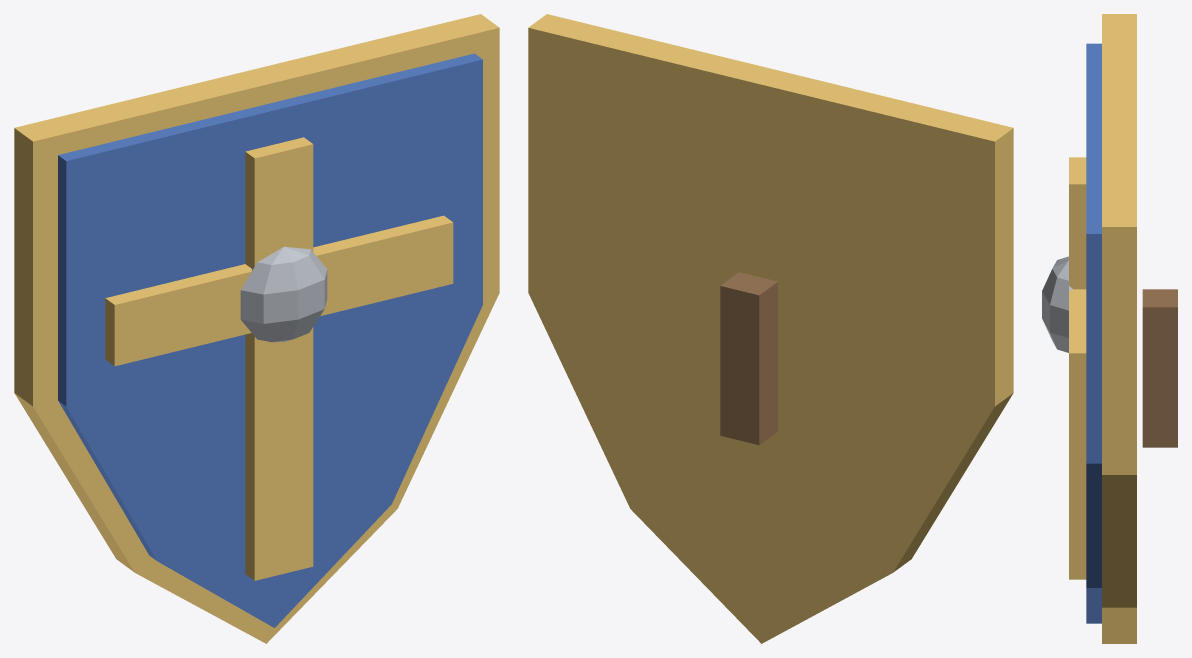
The model's file is Shield.fbx.
The picture shows the model from 3 angles, left to right: view 1: azimuth 30°, elevation 25°; view 2: azimuth 150°, elevation 25°; view 3: azimuth 270°, elevation 25°; orthographic projection. The views are drawn at different scales.
Visible parts, largest first — view 1: W_Shield; view 2: W_Shield; view 3: W_Shield.
Boxes of the visible parts, box(x1,y1,x2,y2) form: W_Shield: box(14, 14, 499, 643); W_Shield: box(528, 14, 1013, 643); W_Shield: box(1042, 14, 1177, 643).
Bounding box in the file's own units: 0.7168 × 0.8208 × 0.193.
